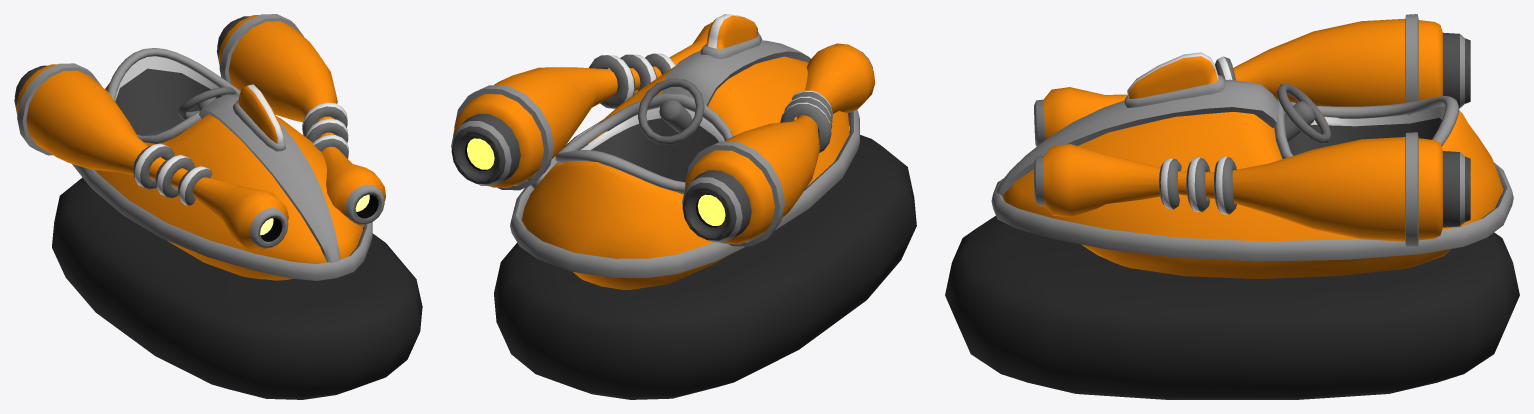
The model's file is mesh_Car_InGame_L.fbx.
The picture shows the model from 3 angles, left to right: view 1: azimuth 30°, elevation 25°; view 2: azimuth 150°, elevation 25°; view 3: azimuth 270°, elevation 25°; orthographic projection. The views are drawn at different scales.
Visible parts, largest first — view 1: mesh_Car_InGame_L; view 2: mesh_Car_InGame_L; view 3: mesh_Car_InGame_L.
Part boxes in pixels (bbox=[...]): mesh_Car_InGame_L: bbox=[14, 14, 422, 399]; mesh_Car_InGame_L: bbox=[451, 14, 916, 399]; mesh_Car_InGame_L: bbox=[945, 14, 1519, 399].
Size of the model in its own units: 2.04 by 1.69 by 2.97.
